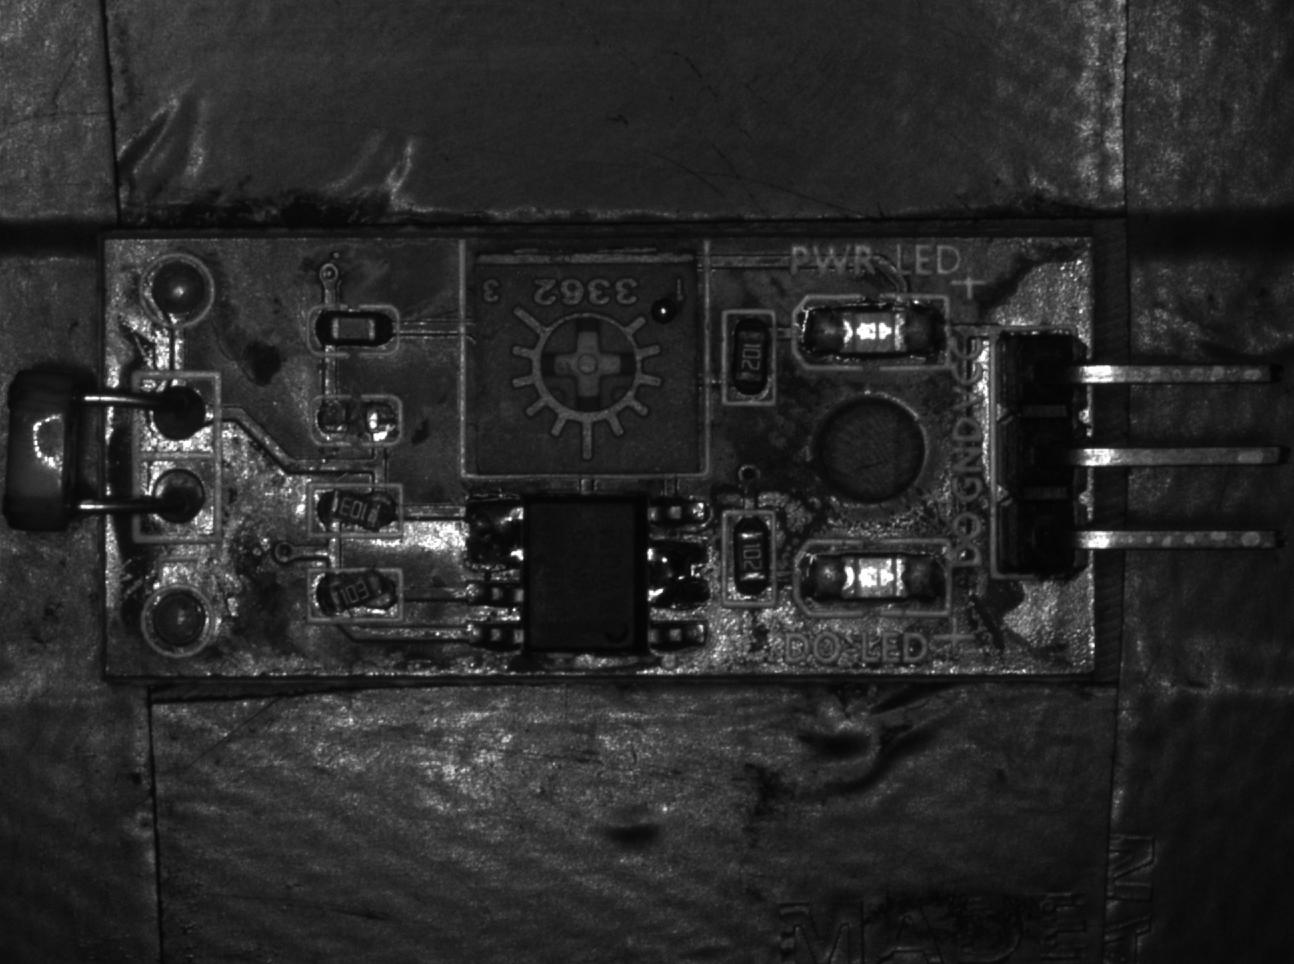bridge: (649, 533, 708, 612), (462, 496, 521, 567)
lifted: (308, 568, 401, 623), (311, 484, 401, 533)
miss: (312, 397, 402, 446)
ok: (723, 308, 777, 404), (721, 513, 775, 607), (306, 305, 402, 355)
